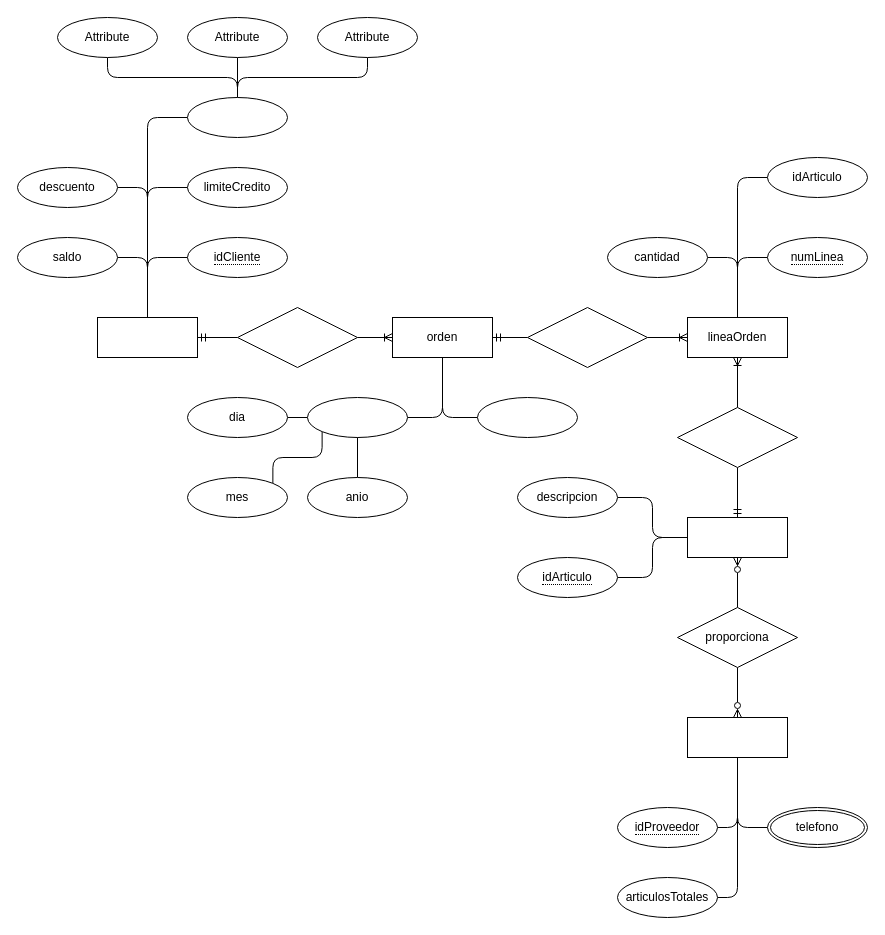
The diagram is 885 pixels wide and 935 high, and some of its shapes have lost their labels. Each missing label, with the centre of its shape:
"articulo" belongs at [737,537].
"cliente" belongs at [147,337].
"contiene" belongs at [587,337].
"describe" belongs at [737,437].
"direccionEnvio" belongs at [237,117].
"fecha" belongs at [357,417].
"idOrden" belongs at [527,417].
"proveedor" belongs at [737,737].
"registra" belongs at [297,337].
